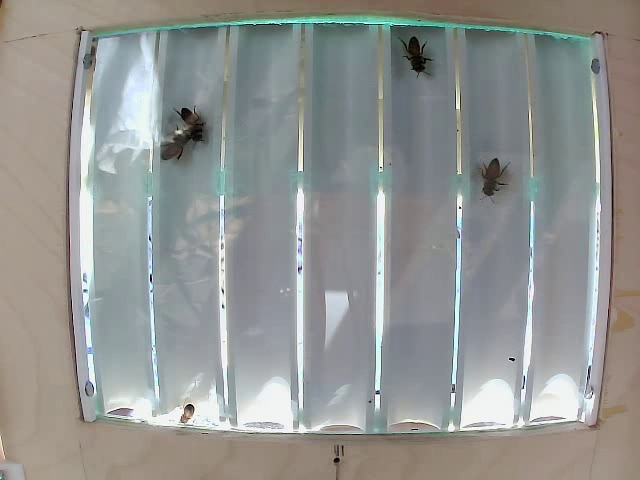bee: (397, 31, 434, 87), (473, 155, 510, 200), (156, 131, 200, 167), (175, 110, 208, 143)
